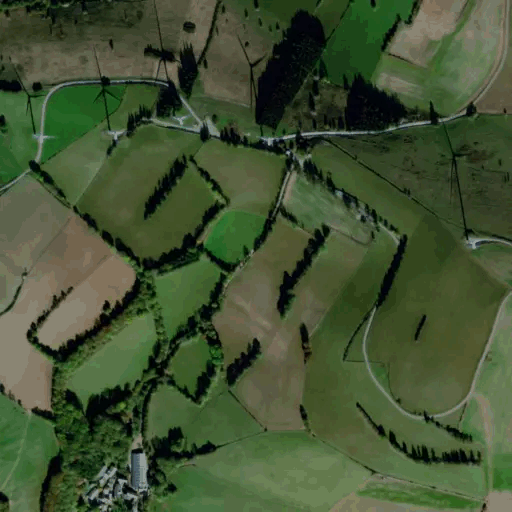wt: (427, 106, 510, 274), (149, 12, 201, 141), (227, 30, 282, 151), (82, 48, 132, 156), (5, 54, 61, 147)
